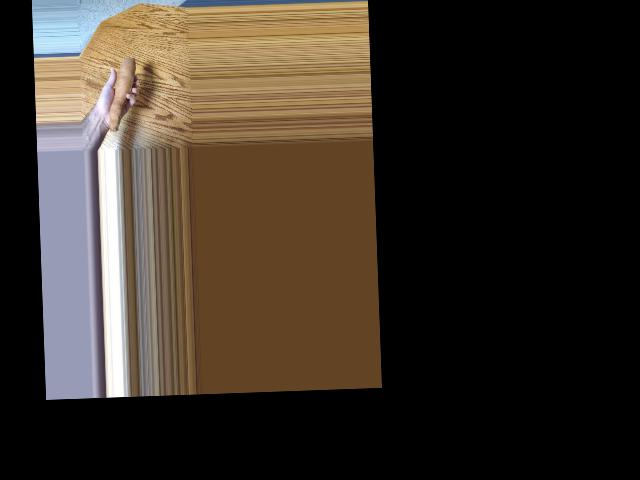sweet_potato: (106, 56, 141, 139)
